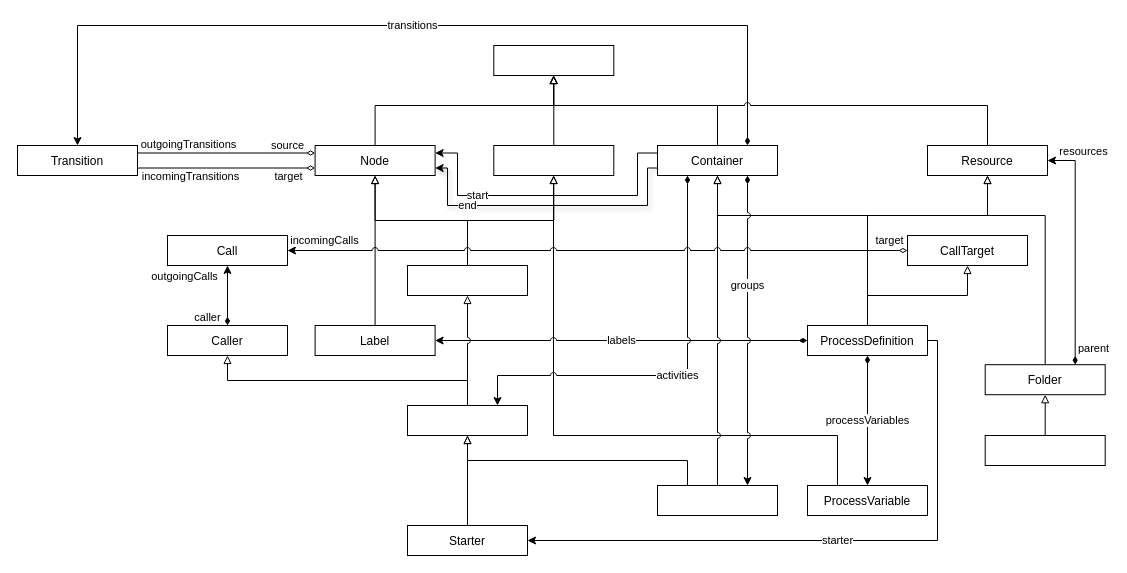
Image size: 1127x573. Some labels were removed from this diagram. The centre of each missing label's shape, as x and y in pixels:
"Activity" goes at point (467, 420).
"Group" goes at point (717, 500).
"NamedElement" goes at point (553, 60).
"Project" goes at point (1044, 450).
"TypedElement" goes at point (553, 160).
"TypedNode" goes at point (467, 280).
